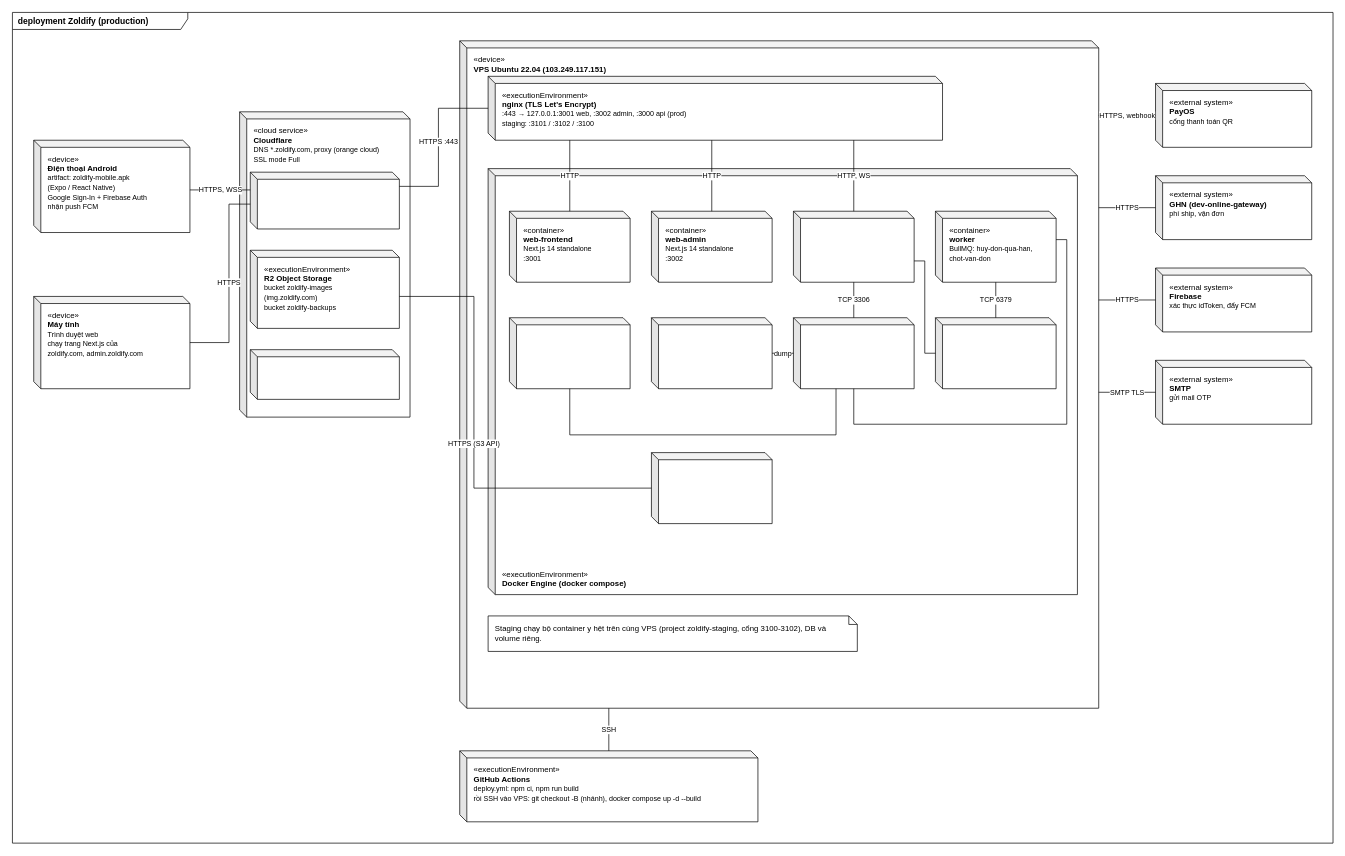
Some shapes in this 1345 by 856 pixel diagram are drawn without their labels. The shapes that lost their labels are listed below. From the top down, each one's centre as x and y in pixels, then its label:
(324,200): «executionEnvironment» Edge proxy / CDN api., www, admin., staging.*
(853,246): «container» api NestJS :3000, REST + Socket.IO ảnh lên R2, dịch qua Workers AI
(569,353): «container» migrate typeorm migration:run (chạy xong rồi tắt)
(711,353): «container» backup mysqldump mỗi 24h giữ 14 ngày
(853,353): «container» mysql MySQL 8, DB zoldify volume mysql-data
(995,353): «container» redis Redis 7 cache + hàng đợi
(324,374): «executionEnvironment» Workers AI m2m100: dịch tên danh mục
(711,488): «container» offsite rclone mỗi 6h chép bản backup lên R2
